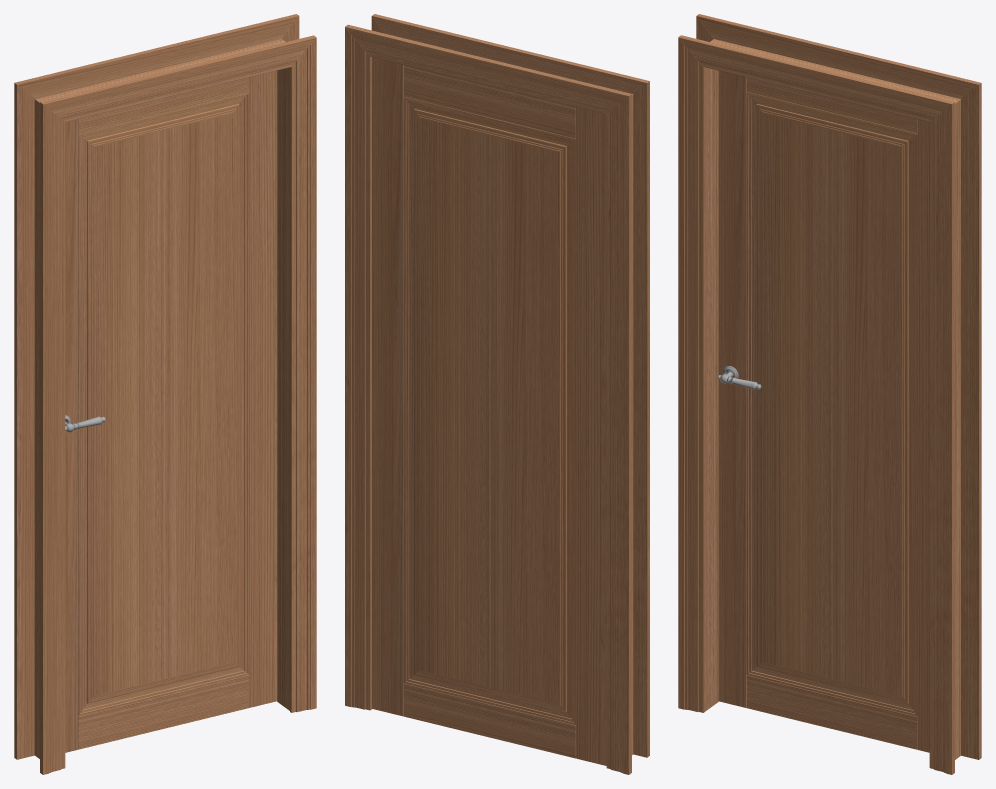
Rendered from door.glb.
3 views of the same model, side by side, from view 1: azimuth 30°, elevation 25°; view 2: azimuth 150°, elevation 25°; view 3: azimuth 330°, elevation 25° (orthographic).
Visible parts, largest first — view 1: d2; view 2: d2; view 3: d2.
Boxes of the visible parts, x1,y1,x2,y2 form: d2: (14, 14, 316, 774); d2: (345, 14, 649, 774); d2: (678, 14, 981, 774).
Bounding box in the file's own units: 0.9552 × 2.18 × 0.1465.
2 materials, 1 textured.
